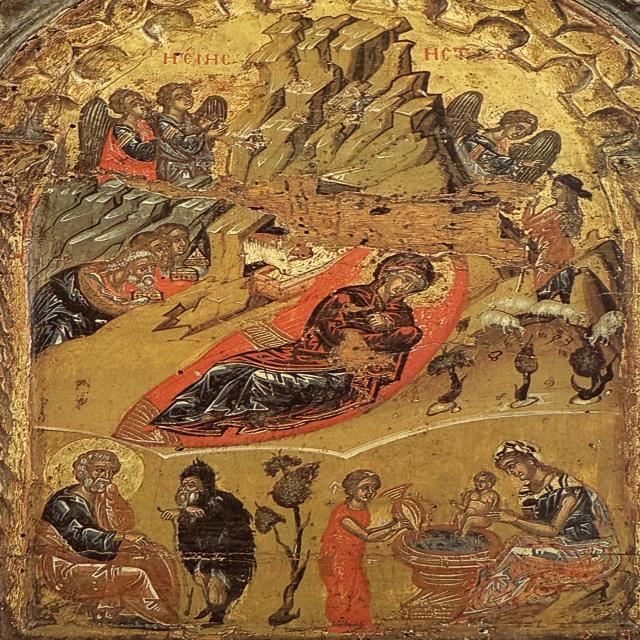angel: (440, 80, 560, 187), (156, 82, 233, 186), (74, 88, 157, 176)
aura: (44, 436, 150, 504), (356, 238, 458, 307)
mary: (138, 238, 460, 434)
vase: (376, 482, 434, 542)
wing: (428, 87, 493, 143), (508, 129, 566, 191), (71, 95, 111, 175), (198, 96, 233, 129)
